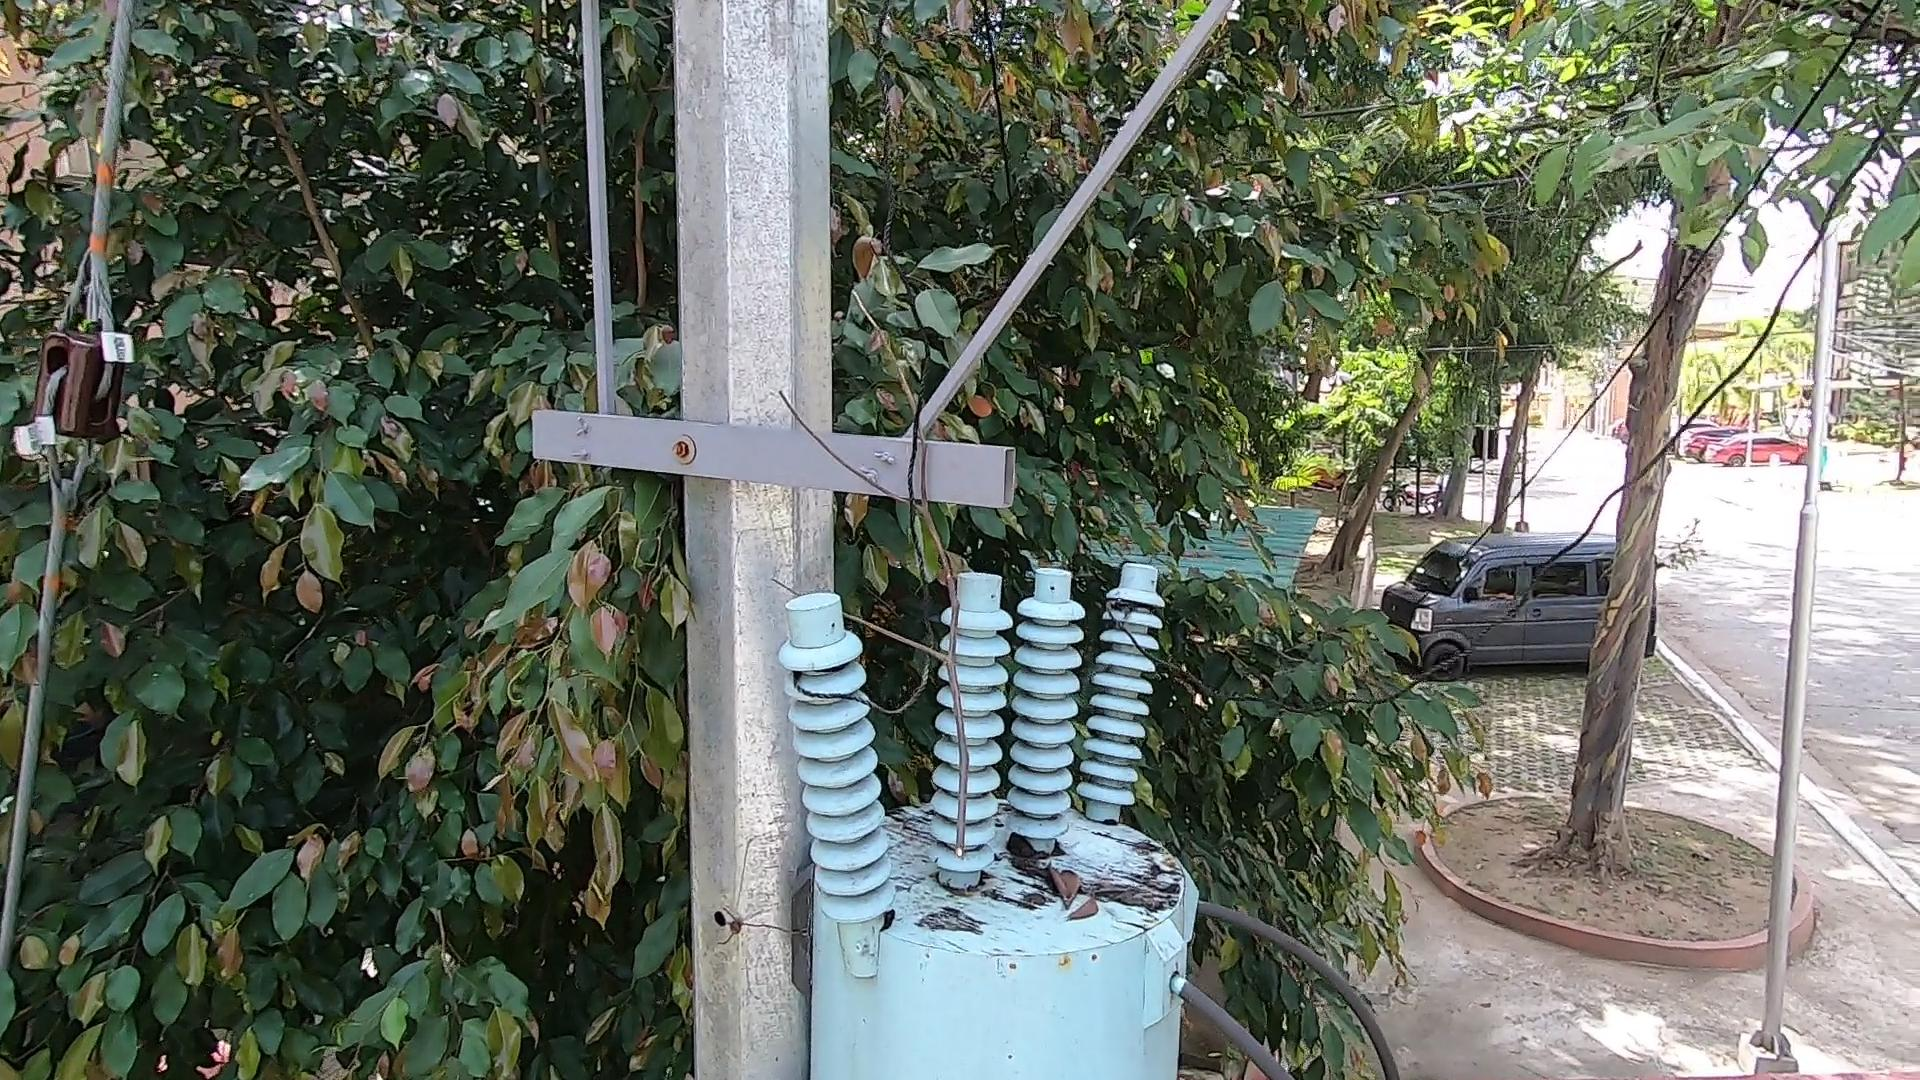leaf: (996, 832, 1112, 918)
tree branch: (756, 282, 1002, 864)
